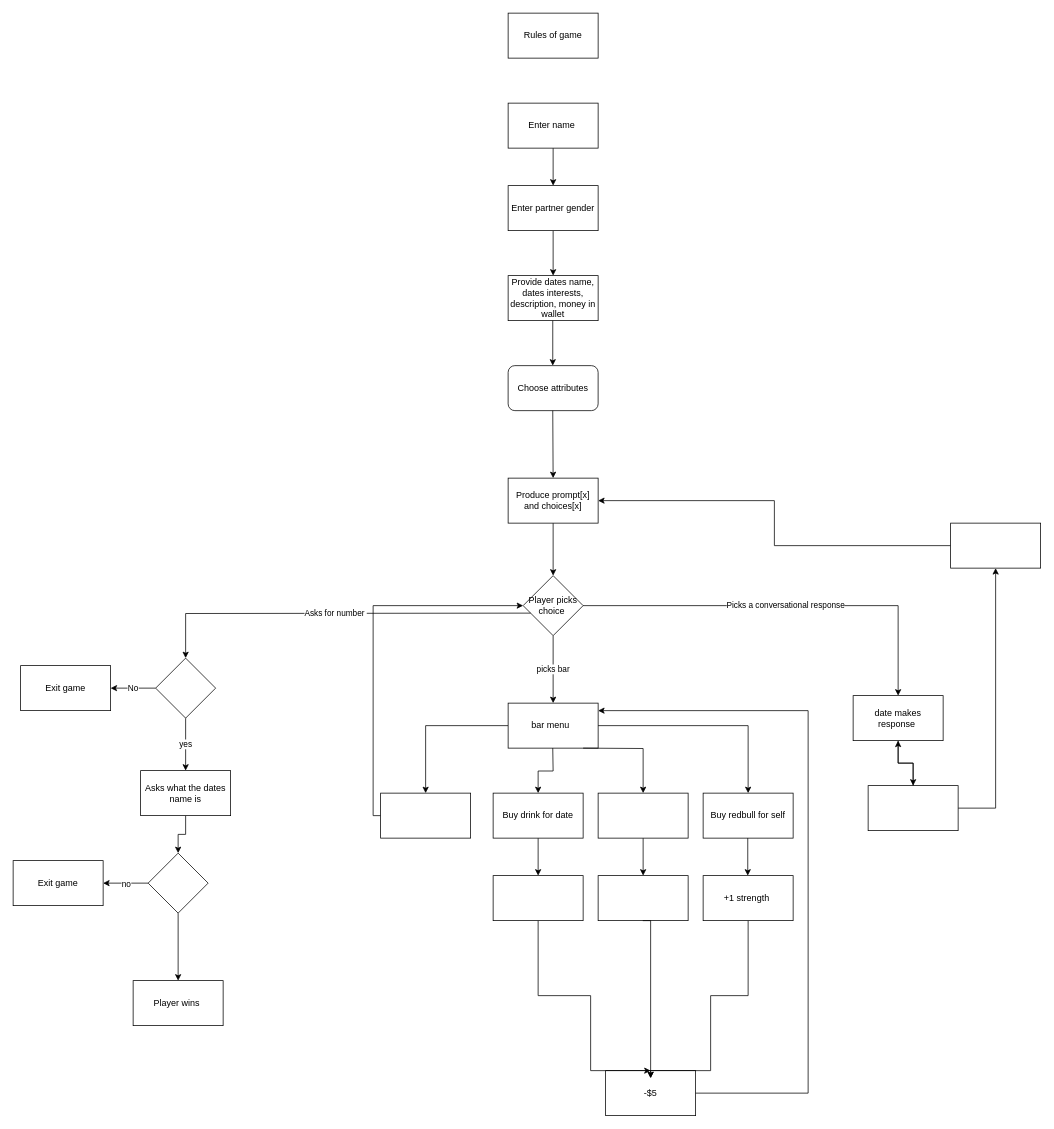
Some shapes in this 1054 by 1129 pixel diagram are drawn without their labels. The box of each missing label's shape, as (x1, y1, x2, y2) in pixels:
+2 Charisma -1 Intelligence: (597, 875, 688, 921)
+3 flirt score: (492, 875, 583, 921)
Buy drink for self: (597, 792, 688, 838)
Correct name?: (147, 852, 208, 913)
Exit bar: (380, 792, 471, 838)
Flirt score above 50?: (155, 657, 216, 718)
Points get added or subtracted from flirt score: (867, 785, 958, 831)
X + 1: (950, 522, 1041, 568)
